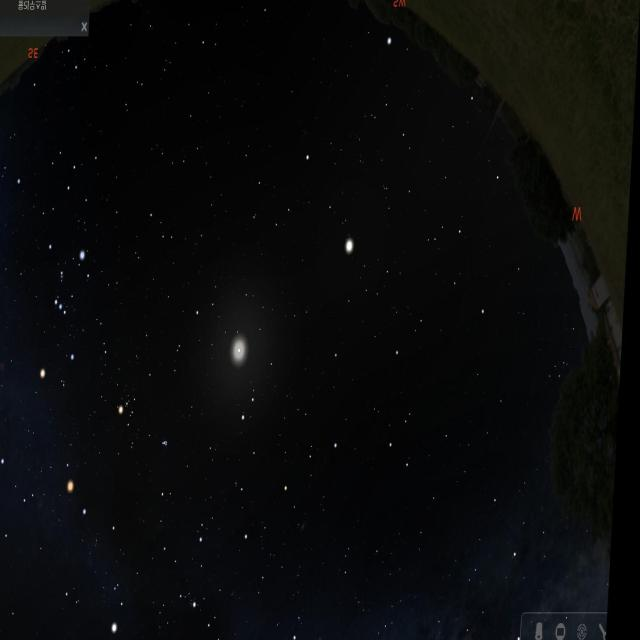canis_major: (0, 107, 26, 206)
moon: (225, 314, 267, 377)
orion: (34, 231, 98, 384)
pleiades: (156, 426, 178, 460)
taurus: (112, 378, 182, 464)
